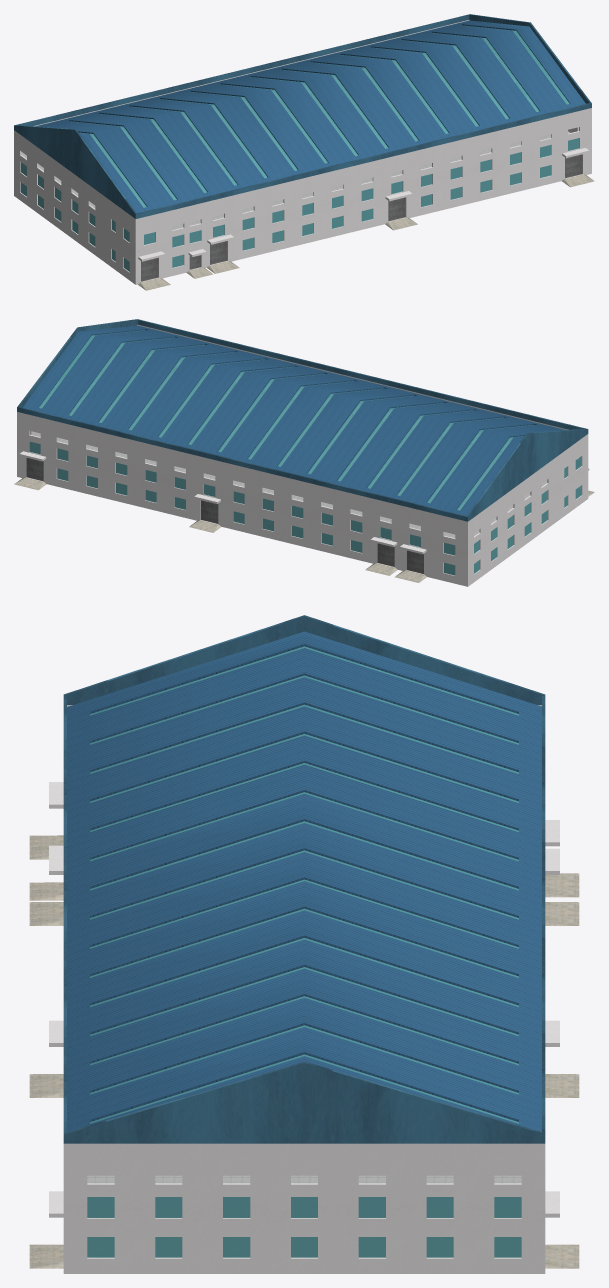
The model's file is jiandingchangfang.gltf.
3 views of the same model, one above another, from view 1: azimuth 30°, elevation 25°; view 2: azimuth 150°, elevation 25°; view 3: azimuth 270°, elevation 25° (orthographic). The views are drawn at different scales.
Parts seen in each view (by area): view 1: yanglintaobao888_2506, yanglintaobao888_2507, yanglintaobao888_2505, yanglintaobao888_2504, yanglintaobao888_2503, yanglintaobao888_2509, yanglintaobao888_2508, yanglintaobao888_2501; view 2: yanglintaobao888_2506, yanglintaobao888_2507, yanglintaobao888_2505, yanglintaobao888_2504, yanglintaobao888_2503, yanglintaobao888_2509, yanglintaobao888_2508, yanglintaobao888_2501; view 3: yanglintaobao888_2506, yanglintaobao888_2507, yanglintaobao888_2505, yanglintaobao888_2504, yanglintaobao888_2503, yanglintaobao888_2508, yanglintaobao888_2501.
Part boxes in pixels (x1,y1,x2,y2): yanglintaobao888_2506: (35, 20, 585, 213); yanglintaobao888_2507: (14, 19, 591, 284); yanglintaobao888_2505: (14, 14, 591, 218); yanglintaobao888_2504: (70, 25, 569, 207); yanglintaobao888_2503: (20, 138, 579, 271); yanglintaobao888_2509: (141, 154, 582, 281); yanglintaobao888_2508: (138, 174, 594, 290); yanglintaobao888_2501: (38, 131, 569, 229); yanglintaobao888_2506: (23, 325, 566, 515); yanglintaobao888_2507: (17, 324, 589, 586); yanglintaobao888_2505: (17, 319, 588, 521); yanglintaobao888_2504: (39, 330, 533, 510); yanglintaobao888_2503: (29, 441, 581, 575); yanglintaobao888_2509: (26, 457, 423, 573); yanglintaobao888_2508: (14, 477, 594, 582); yanglintaobao888_2501: (38, 435, 546, 538); yanglintaobao888_2506: (67, 631, 541, 1131); yanglintaobao888_2507: (49, 705, 559, 1273); yanglintaobao888_2505: (63, 615, 545, 1143); yanglintaobao888_2504: (90, 646, 518, 1123); yanglintaobao888_2503: (87, 1197, 521, 1257); yanglintaobao888_2508: (29, 835, 579, 1268); yanglintaobao888_2501: (87, 1175, 521, 1183).
Size of the model in its own units: 0.5263 by 0.122 by 0.2777.
8 materials, 7 textured.
